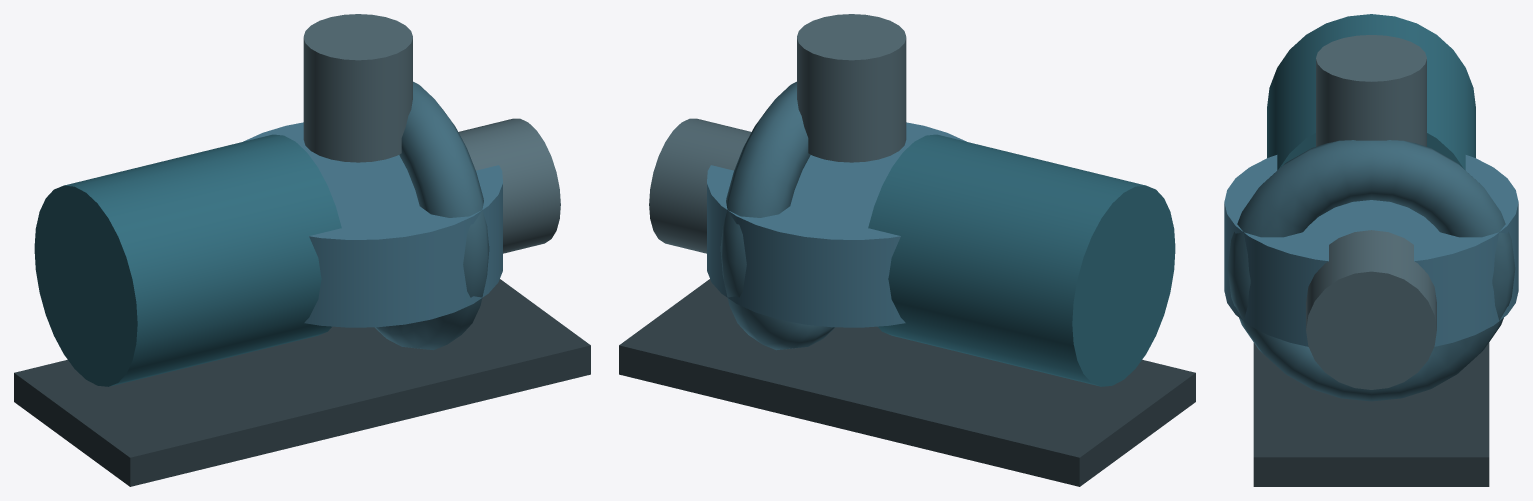
File: end-suction-pump.glb
The picture shows the model from 3 angles, left to right: view 1: azimuth 30°, elevation 25°; view 2: azimuth 150°, elevation 25°; view 3: azimuth 270°, elevation 25°; orthographic projection.
Parts seen in each view (by area): view 1: Motor, Skid, Volute casing, Discharge flange, Volute rim, Suction flange; view 2: Motor, Skid, Volute casing, Discharge flange, Volute rim, Suction flange; view 3: Volute rim, Skid, Volute casing, Suction flange, Motor, Discharge flange.
Boxes of the visible parts, x1,y1,x2,y2 form: Motor: [34, 134, 341, 386]; Skid: [14, 279, 590, 486]; Volute casing: [243, 122, 502, 327]; Discharge flange: [303, 14, 412, 162]; Volute rim: [375, 81, 489, 350]; Suction flange: [458, 118, 560, 253]; Motor: [868, 134, 1175, 386]; Skid: [619, 279, 1195, 486]; Volute casing: [707, 122, 966, 327]; Discharge flange: [797, 14, 906, 162]; Volute rim: [720, 81, 834, 350]; Suction flange: [649, 118, 751, 253]; Volute rim: [1227, 140, 1515, 401]; Skid: [1253, 342, 1489, 486]; Volute casing: [1224, 155, 1518, 346]; Suction flange: [1306, 230, 1436, 389]; Motor: [1267, 14, 1475, 169]; Discharge flange: [1316, 35, 1426, 146].
Size of the model in its own units: 1.65 by 1.15 by 0.9.
